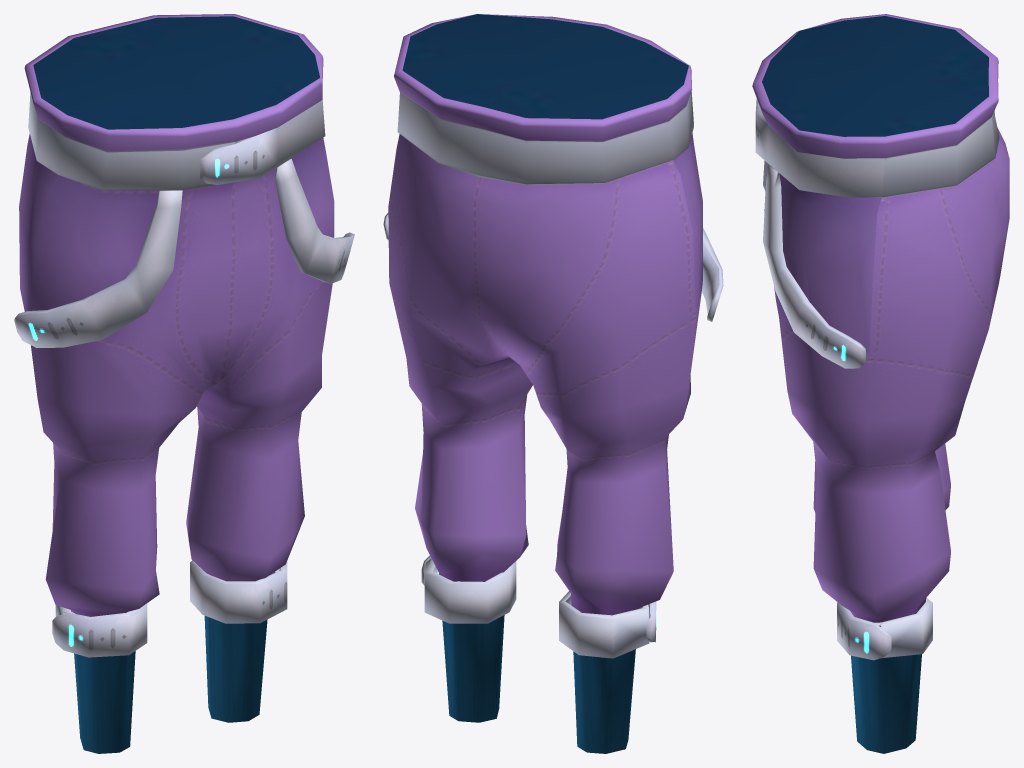
File: M_lBody_daBPants.glb
3 renders of one model, left to right at view 1: azimuth 30°, elevation 25°; view 2: azimuth 150°, elevation 25°; view 3: azimuth 270°, elevation 25°, orthographic. The views are drawn at different scales.
Parts seen in each view (by area): view 1: M_lBody_BaggyPants_01.001; view 2: M_lBody_BaggyPants_01.001; view 3: M_lBody_BaggyPants_01.001.
Boxes of the visible parts, x1=… form: M_lBody_BaggyPants_01.001: x1=14, y1=14, x2=354, y2=753; M_lBody_BaggyPants_01.001: x1=383, y1=14, x2=723, y2=753; M_lBody_BaggyPants_01.001: x1=752, y1=14, x2=1009, y2=753.
Bounding box in the file's own units: 0.4612 × 0.8704 × 0.3185.
Materials: 1 (1 with a texture image).
